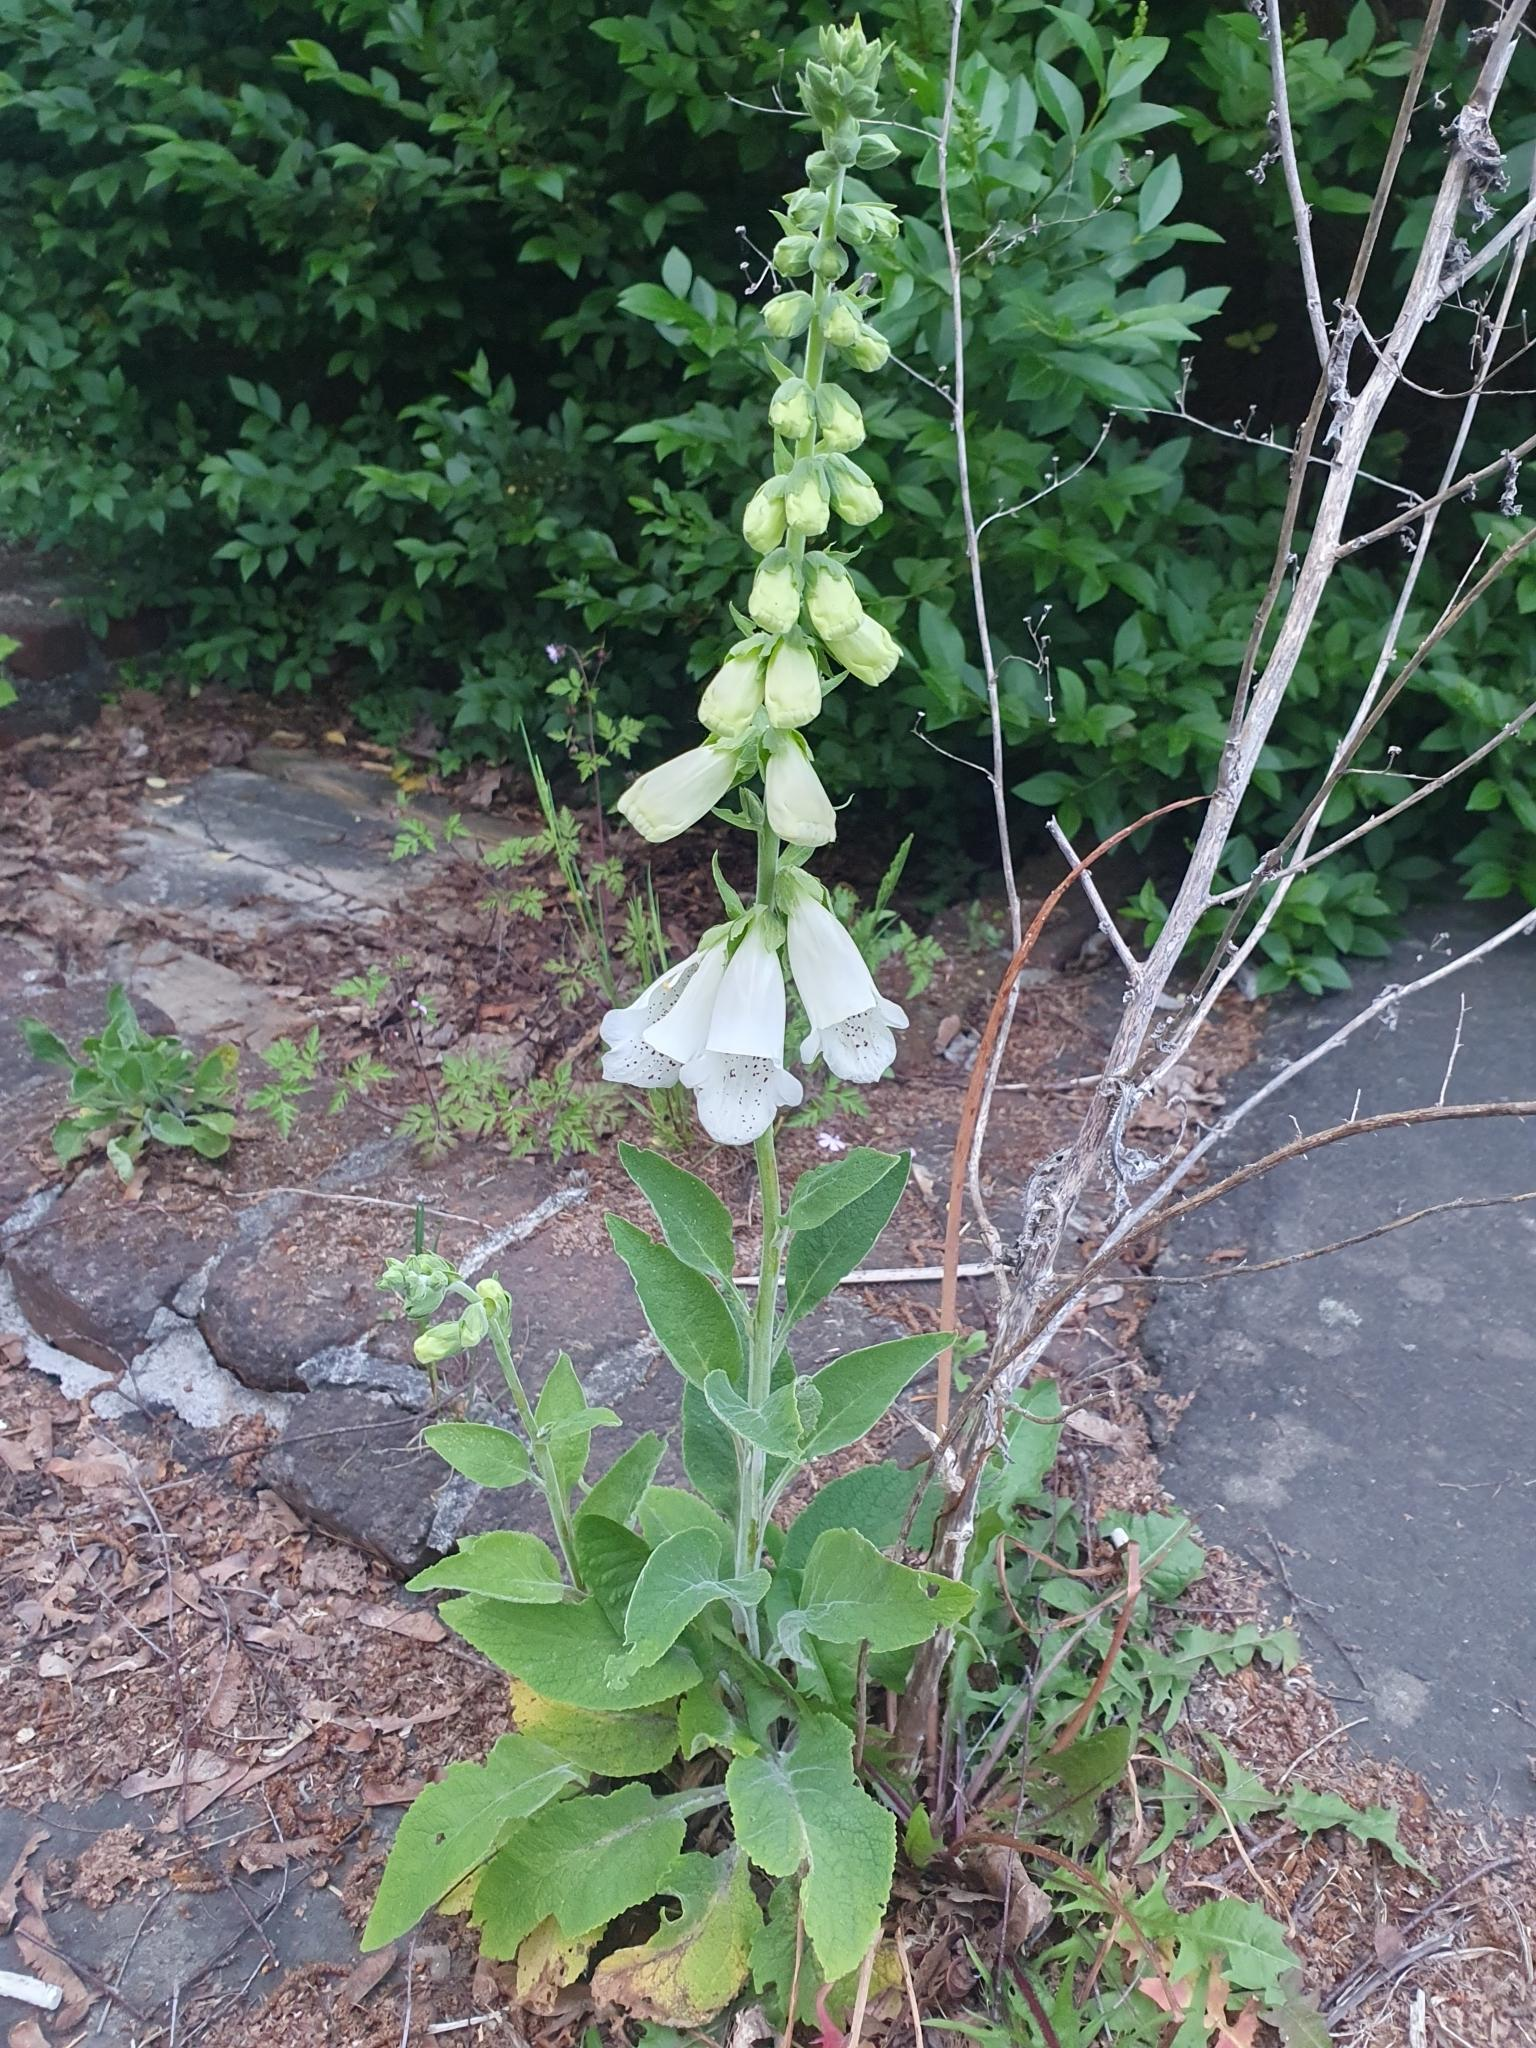Digitalis L: (400, 31, 963, 1950)
